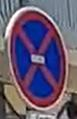paragem e estacionamento proibido: (4, 1, 71, 105)
